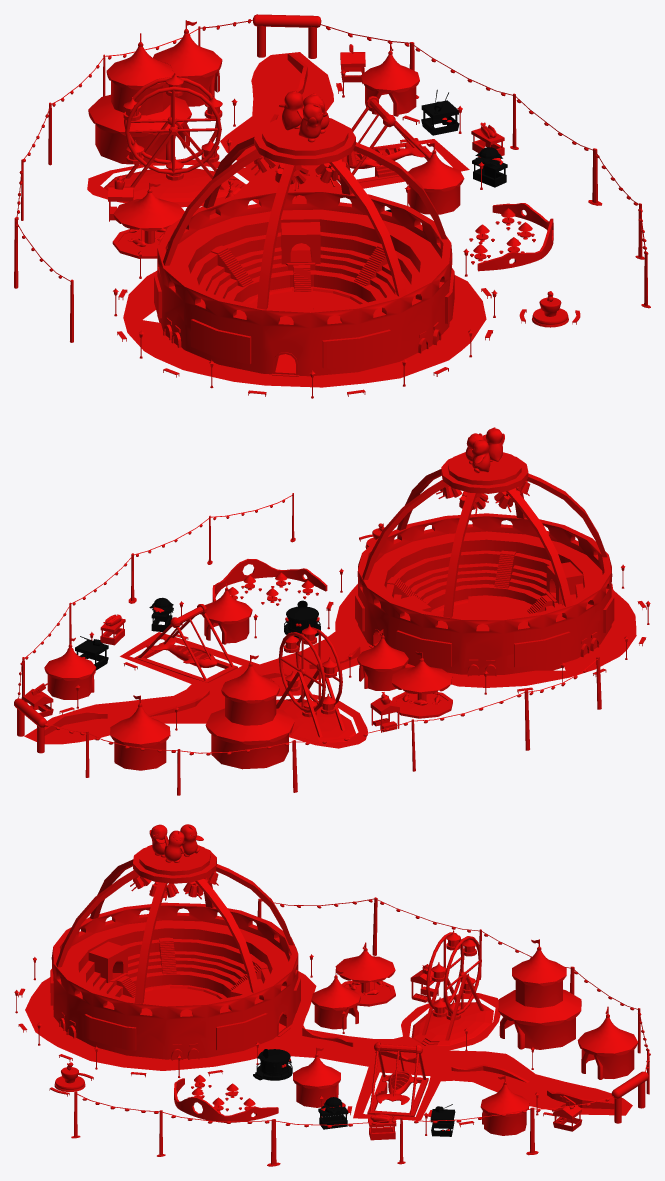
The model's file is Neighborhood_JamboreeSquare_03.glb.
3 renders of one model, top to bottom at view 1: azimuth 30°, elevation 25°; view 2: azimuth 150°, elevation 25°; view 3: azimuth 270°, elevation 25°, orthographic. The views are drawn at different scales.
Parts seen in each view (by area): view 1: pasted__Arena1_Ande, pasted__Berg1, pasted__pasted__FerrisWheelTent_TENT04, pasted__pasted__TENT02, pasted__pasted__PM3D_Sphere3D_3, pasted__pasted__TENT01, pasted__pasted__TENT09, pasted__pasted__TENT05, pasted__pasted__pCylinder5, pasted__pasted__pasted__Object_Lights1, pasted__pasted__pasted__Object_Lights, pasted__Pudgys_Ande (+9 smaller); view 2: pasted__Arena1_Ande, pasted__Berg1, pasted__pasted__TENT02, pasted__pasted__FerrisWheelTent_TENT04, pasted__pasted__TENT01, pasted__pasted__PM3D_Sphere3D_3, pasted__pasted__pCylinder5, pasted__pasted__pasted__Object_Lights, pasted__pasted__TENT05, pasted__pasted__TENT08, pasted__pasted__TENT09, pasted__pasted__Walls_Ande (+11 smaller); view 3: pasted__Arena1_Ande, pasted__Berg1, pasted__pasted__TENT02, pasted__pasted__FerrisWheelTent_TENT04, pasted__pasted__TENT01, pasted__pasted__pCylinder5, pasted__pasted__PM3D_Sphere3D_3, pasted__pasted__pasted__Object_Lights1, pasted__pasted__TENT05, pasted__pasted__TENT08, pasted__pasted__TENT09, pasted__pasted__pasted__Object_Lights (+12 smaller).
Boxes of the visible parts, left/top/right/bottom form: pasted__Arena1_Ande: left=154, top=118, right=454, bottom=376; pasted__Berg1: left=87, top=52, right=486, bottom=387; pasted__pasted__FerrisWheelTent_TENT04: left=104, top=73, right=245, bottom=201; pasted__pasted__TENT02: left=88, top=33, right=191, bottom=164; pasted__pasted__PM3D_Sphere3D_3: left=112, top=182, right=184, bottom=258; pasted__pasted__TENT01: left=153, top=20, right=222, bottom=106; pasted__pasted__TENT09: left=406, top=142, right=464, bottom=214; pasted__pasted__TENT05: left=361, top=43, right=419, bottom=116; pasted__pasted__pCylinder5: left=337, top=96, right=432, bottom=183; pasted__pasted__pasted__Object_Lights1: left=321, top=24, right=650, bottom=308; pasted__pasted__pasted__Object_Lights: left=14, top=19, right=252, bottom=342; pasted__Pudgys_Ande: left=279, top=90, right=329, bottom=142; pasted__Arena1_Ande: left=355, top=452, right=614, bottom=674; pasted__Berg1: left=24, top=584, right=636, bottom=748; pasted__pasted__TENT02: left=205, top=655, right=294, bottom=769; pasted__pasted__FerrisWheelTent_TENT04: left=276, top=624, right=356, bottom=742; pasted__pasted__TENT01: left=110, top=695, right=170, bottom=770; pasted__pasted__PM3D_Sphere3D_3: left=391, top=651, right=452, bottom=718; pasted__pasted__pCylinder5: left=134, top=604, right=237, bottom=682; pasted__pasted__pasted__Object_Lights: left=44, top=656, right=601, bottom=795; pasted__pasted__TENT05: left=44, top=637, right=96, bottom=699; pasted__pasted__TENT08: left=357, top=629, right=408, bottom=690; pasted__pasted__TENT09: left=202, top=581, right=252, bottom=644; pasted__pasted__Walls_Ande: left=212, top=559, right=327, bottom=601; pasted__Arena1_Ande: left=50, top=845, right=300, bottom=1059; pasted__Berg1: left=25, top=971, right=632, bottom=1120; pasted__pasted__TENT02: left=498, top=939, right=581, bottom=1049; pasted__pasted__FerrisWheelTent_TENT04: left=411, top=930, right=493, bottom=1045; pasted__pasted__TENT01: left=577, top=1006, right=637, bottom=1079; pasted__pasted__pCylinder5: left=367, top=1041, right=428, bottom=1116; pasted__pasted__PM3D_Sphere3D_3: left=335, top=942, right=395, bottom=1006; pasted__pasted__pasted__Object_Lights1: left=71, top=1091, right=613, bottom=1166; pasted__pasted__TENT05: left=480, top=1075, right=529, bottom=1135; pasted__pasted__TENT08: left=311, top=969, right=360, bottom=1029; pasted__pasted__TENT09: left=293, top=1047, right=340, bottom=1107; pasted__pasted__pasted__Object_Lights: left=257, top=897, right=650, bottom=1094.
Size of the model in its own units: 38.43 by 16.14 by 47.07.
